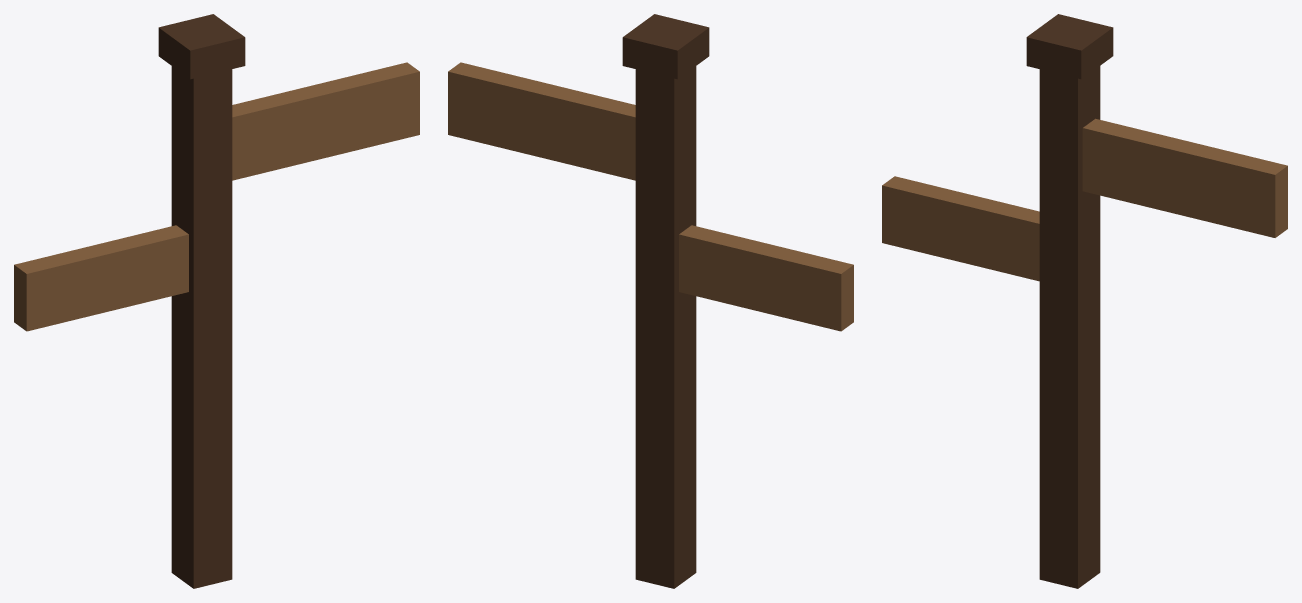
Rendered from prop_signpost.glb.
The picture shows the model from 3 angles, left to right: view 1: azimuth 30°, elevation 25°; view 2: azimuth 150°, elevation 25°; view 3: azimuth 330°, elevation 25°; orthographic projection.
Parts seen in each view (by area): view 1: prop_signpost; view 2: prop_signpost; view 3: prop_signpost.
Part boxes in pixels (left/top/right/bottom): prop_signpost: left=14, top=14, right=419, bottom=588; prop_signpost: left=448, top=14, right=853, bottom=588; prop_signpost: left=882, top=14, right=1287, bottom=588.
Bounding box in the file's own units: 1.43 × 1.89 × 0.2.
